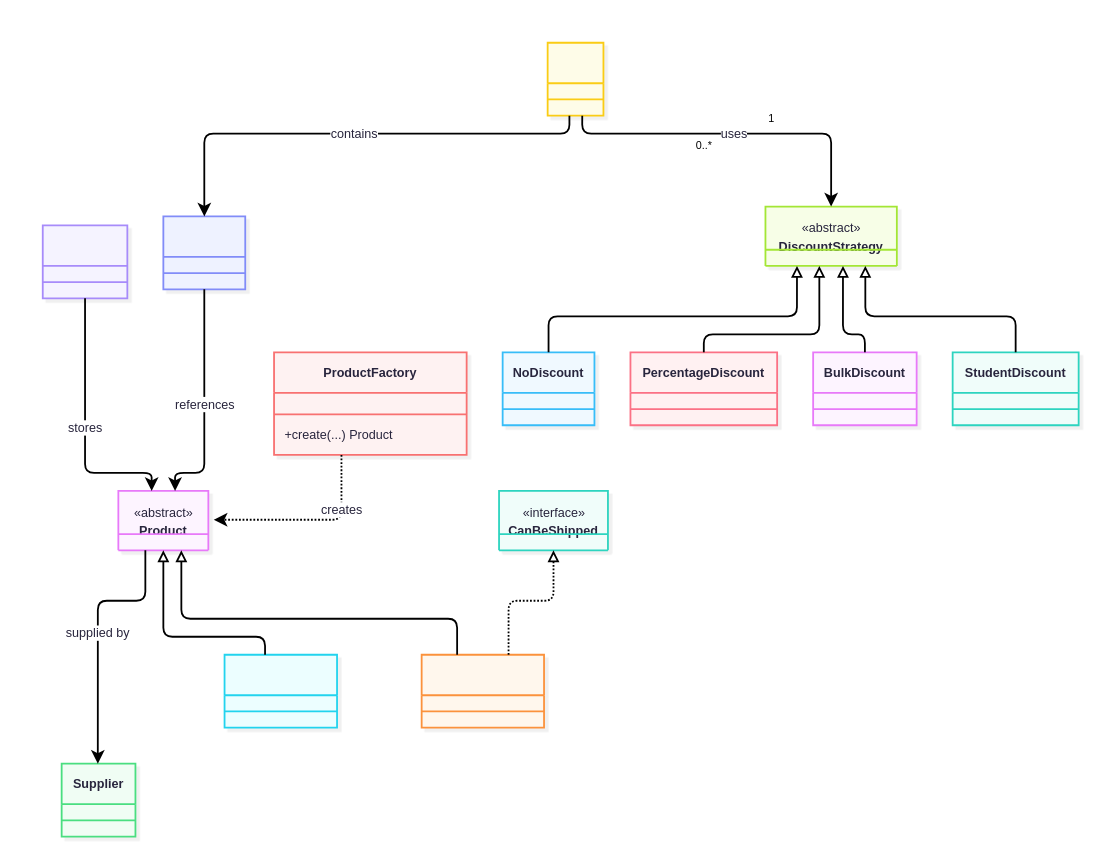
Some shapes in this 1098 by 856 pixel diagram are drawn without their labels. Each missing label, with the centre of its shape:
DigitalProduct: the point at 282,692
Inventory: the point at 86,263
Order: the point at 577,80
OrderLine: the point at 205,254
PhysicalProduct: the point at 484,692
